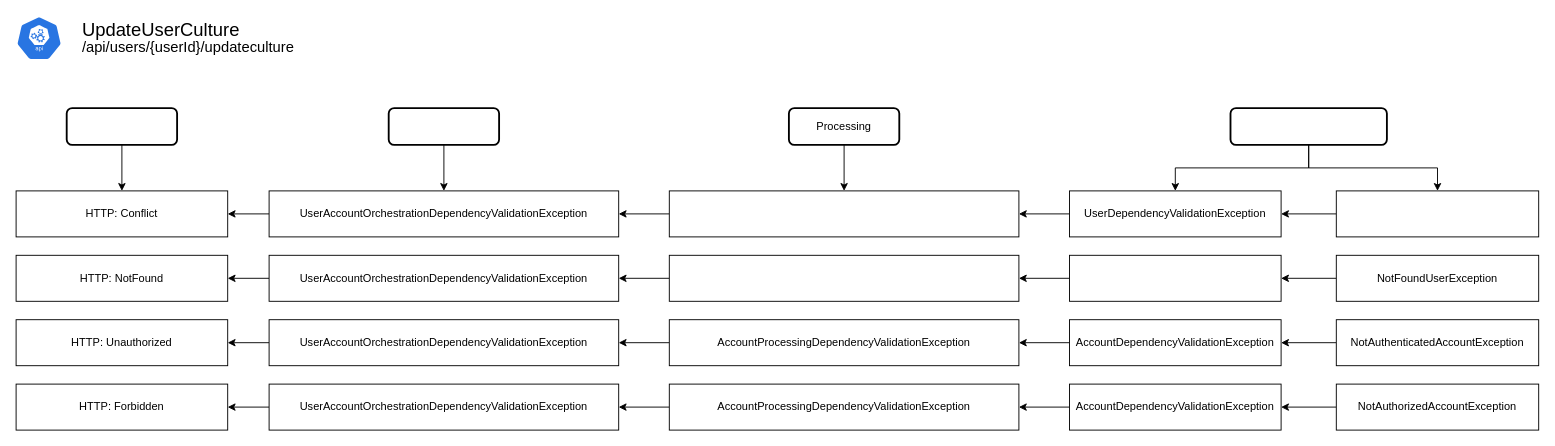
Image size: 1555x446. Some labels were removed from this diagram. Here are the shapes that lost their labels. From the top down, the box of each, then its label:
(65, 107, 178, 145): Exposer
(387, 107, 500, 145): Orchestration
(1229, 107, 1387, 145): Foundation
(668, 190, 1019, 237): UserProcessingDependencyValidationException
(1335, 190, 1539, 237): AlreadyExistsUserCultureException
(668, 254, 1019, 301): UserProcessingValidationException
(1069, 254, 1281, 301): UserValidationException
